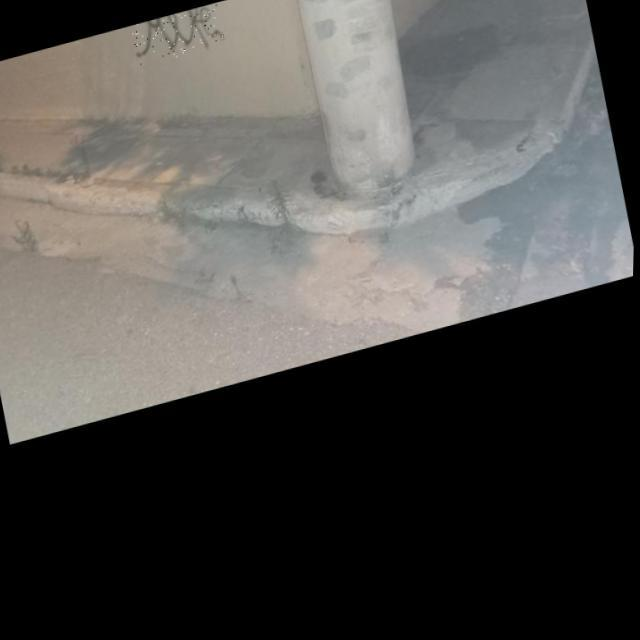-: (130, 4, 226, 68)
